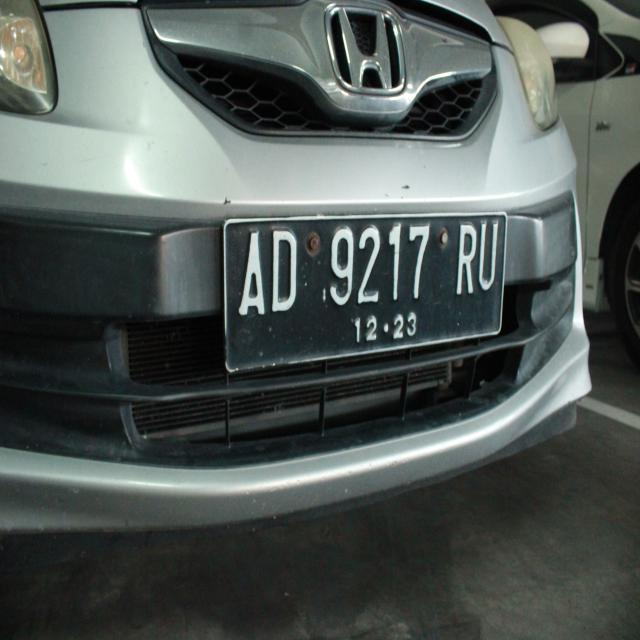1: (381, 212, 408, 306)
2: (354, 217, 387, 307)
7: (406, 213, 434, 304)
9: (324, 214, 358, 312)
A: (234, 218, 270, 318)
D: (264, 218, 304, 320)
R: (449, 208, 476, 301)
U: (478, 208, 500, 294)
